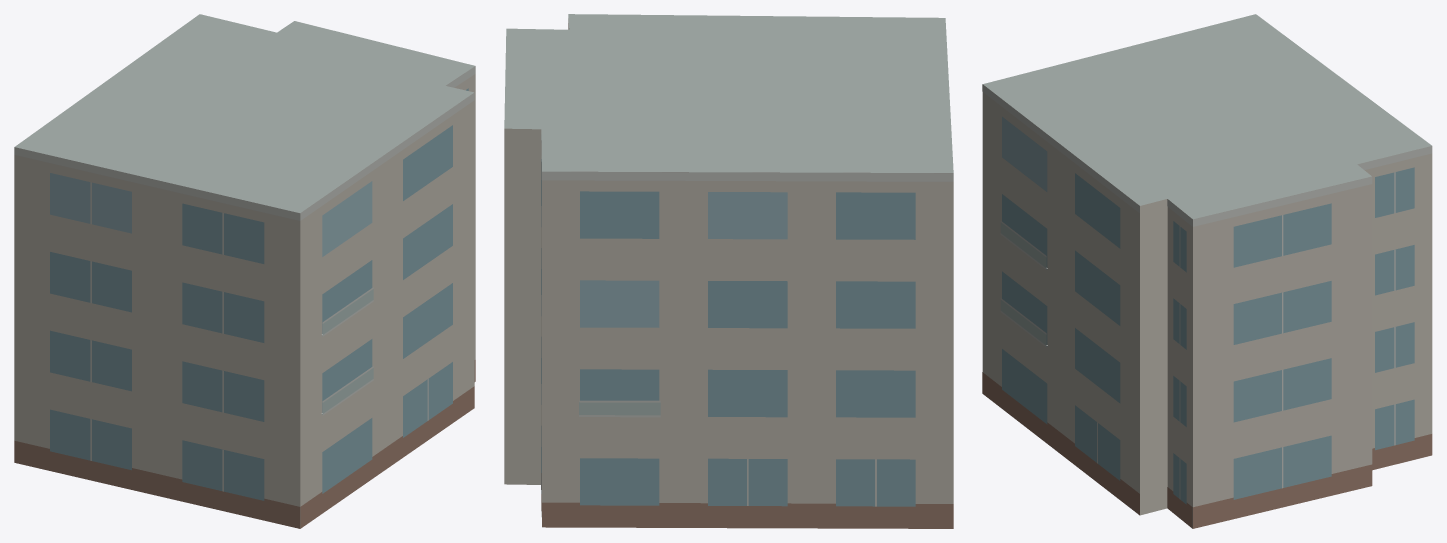
The model's file is survey-upis-32801516.glb.
3 views of the same model, side by side, from view 1: azimuth 30°, elevation 25°; view 2: azimuth 150°, elevation 25°; view 3: azimuth 270°, elevation 25° (orthographic). The views are drawn at different scales.
Parts seen in each view (by area): view 1: survey-upis-32801516.tmp; view 2: survey-upis-32801516.tmp; view 3: survey-upis-32801516.tmp.
Boxes of the visible parts, box(x1,y1,x2,y2) form: survey-upis-32801516.tmp: box(14, 14, 475, 528); survey-upis-32801516.tmp: box(504, 14, 953, 528); survey-upis-32801516.tmp: box(982, 14, 1432, 528).
Size of the model in its own units: 14.16 by 9.95 by 13.11.
